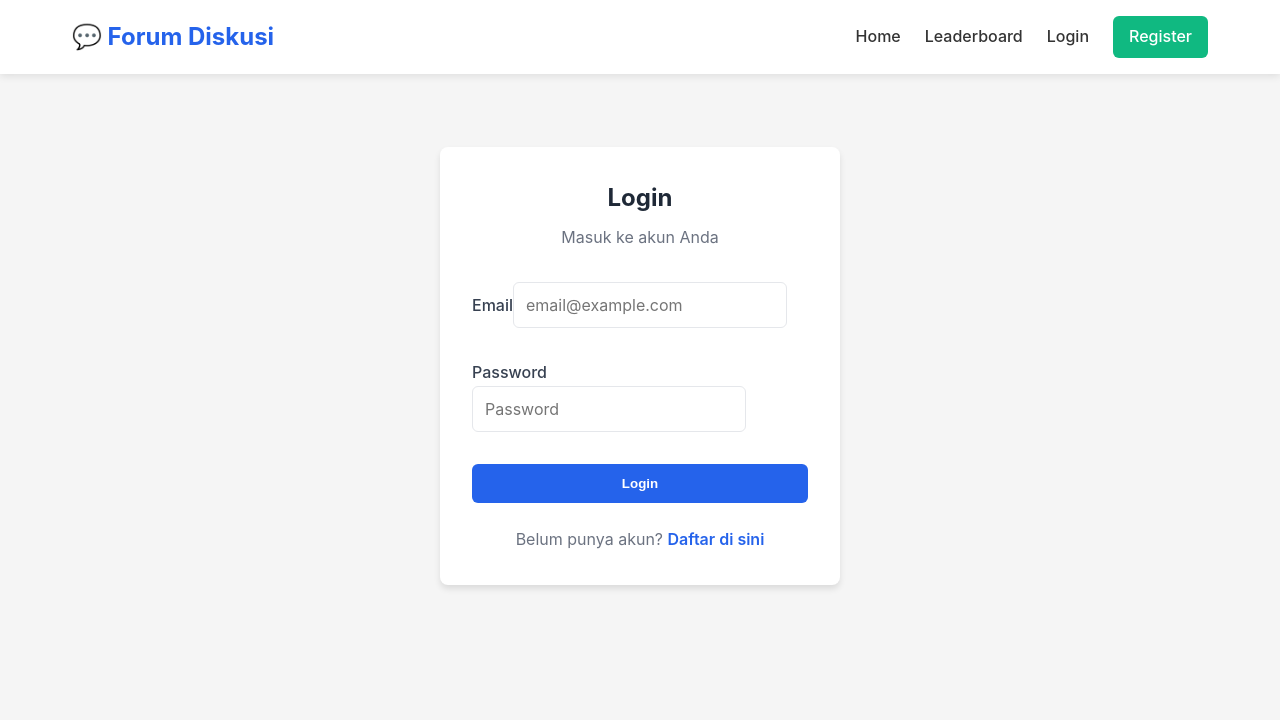
Login Flow › should show validation error when submitting empty form
The image size is (1280, 720).
What coordinates should you click on to do the following:
click the submit button
I would click on:
 (640, 484)
Its box is 472,464 -> 808,503.
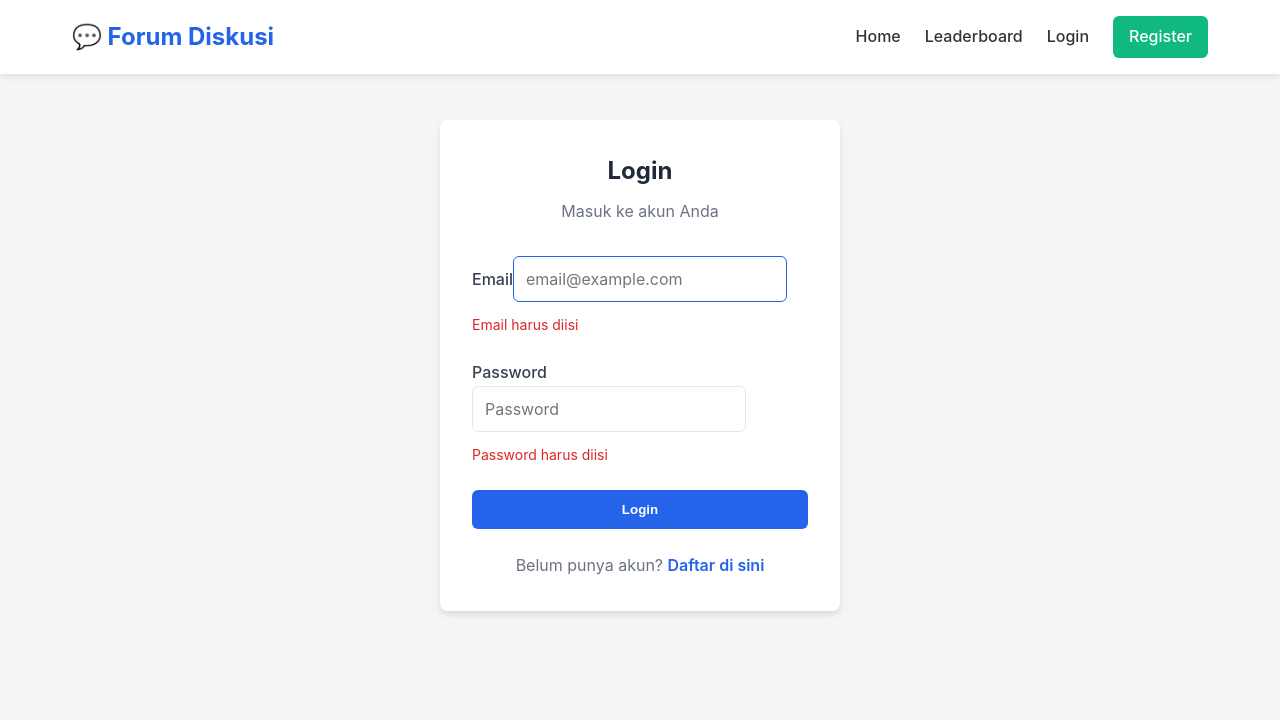
Check: the text "Email harus diisi" is shown, box 472,316 -> 578,333
